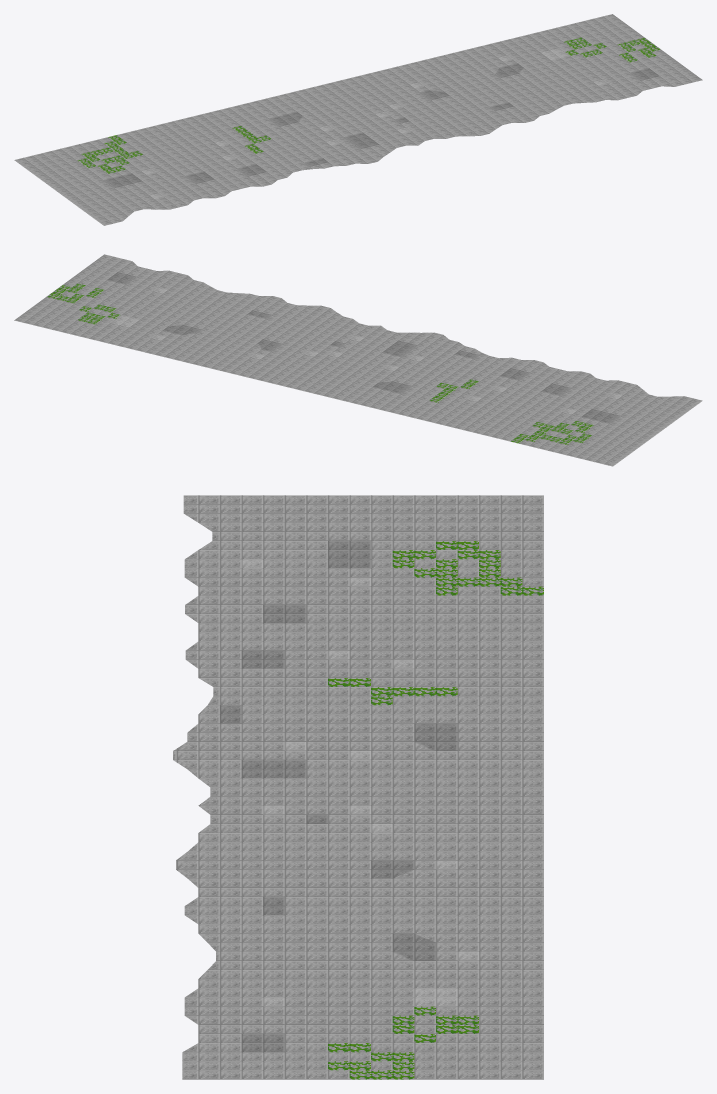
Rendered from WallLeft.obj.
3 views of the same model, one above another, from view 1: azimuth 30°, elevation 25°; view 2: azimuth 150°, elevation 25°; view 3: azimuth 270°, elevation 25° (orthographic). The views are drawn at different scales.
Parts seen in each view (by area): view 1: WallLeft; view 2: WallLeft; view 3: WallLeft.
Boxes of the visible parts, x1,y1,x2,y2 form: WallLeft: [14, 14, 702, 225]; WallLeft: [14, 254, 702, 466]; WallLeft: [173, 495, 543, 1079].
Bounding box in the file's own units: 64 × 0 × 17.17.
